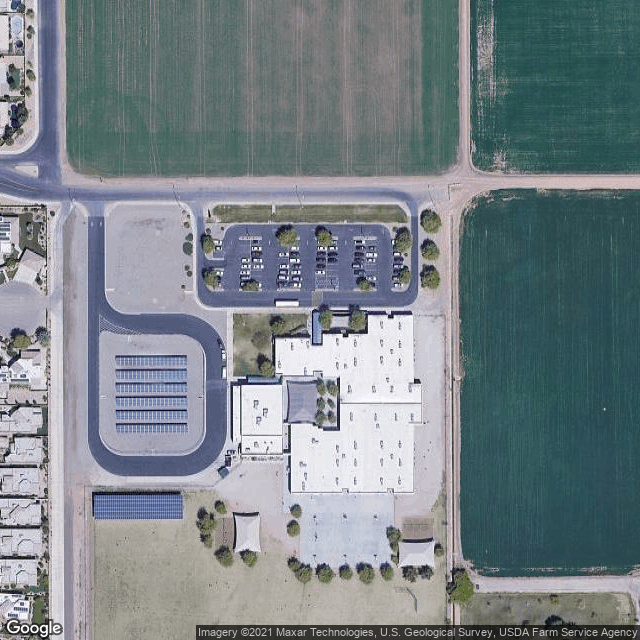carport-fixed: (93, 495, 184, 519)
ground-fixed: (115, 351, 188, 434)
